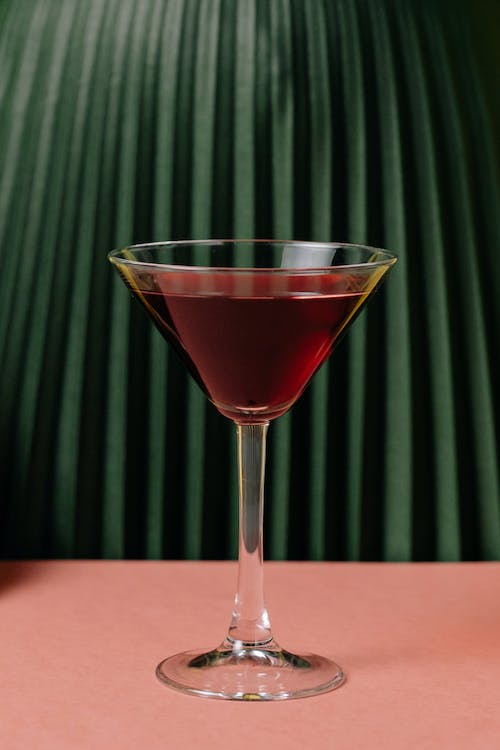alcohol: (106, 236, 399, 702)
